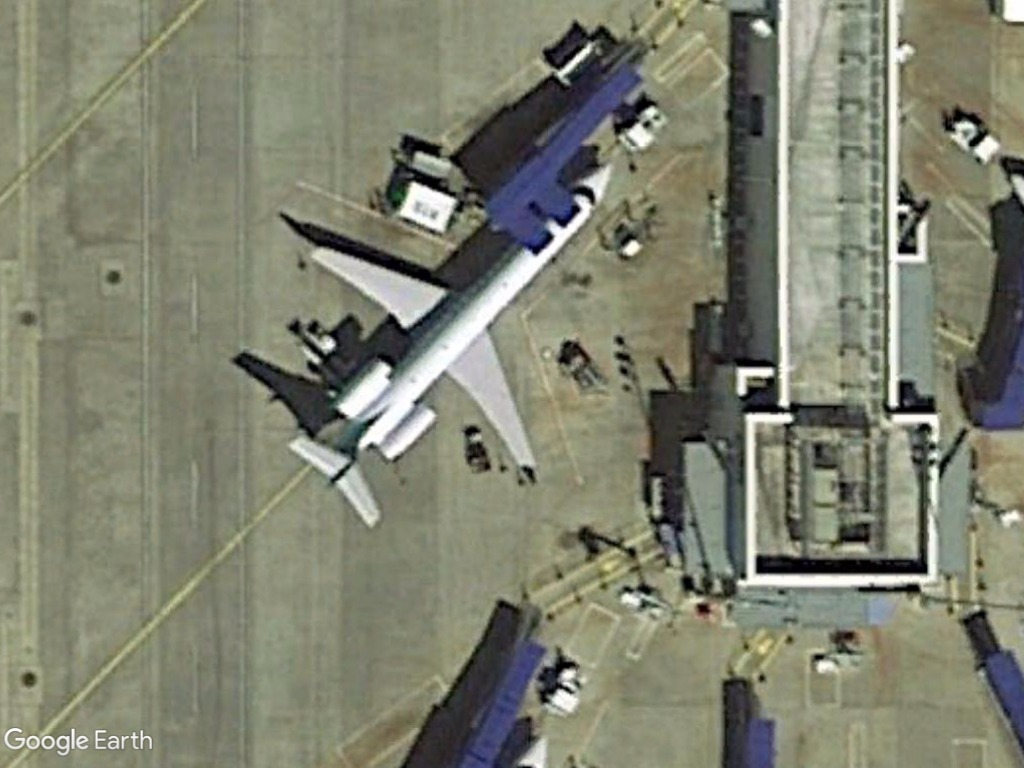chartered: (284, 160, 615, 533)
